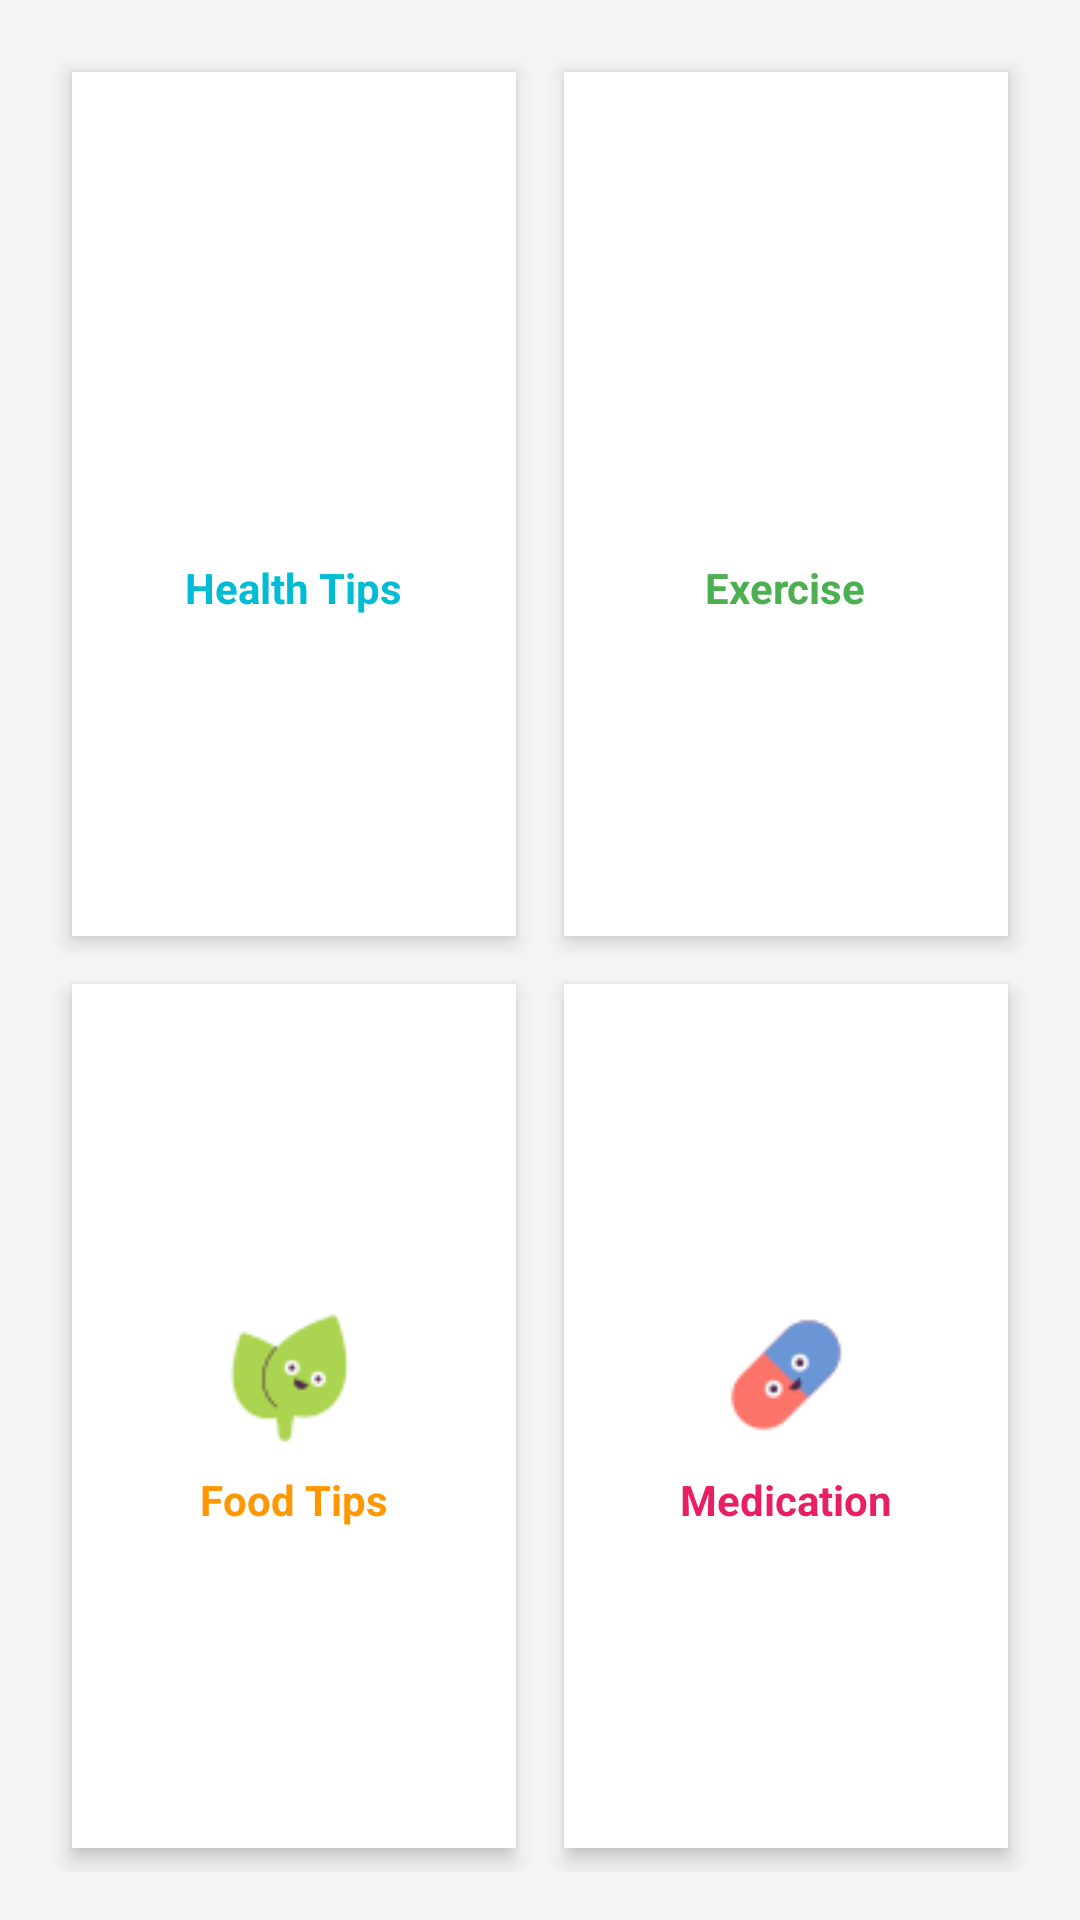

Icon bounding boxes for this 1080x1920 phone screenshot, format (x1, y1, x2, y2):
pills: (730, 1319, 842, 1431)
